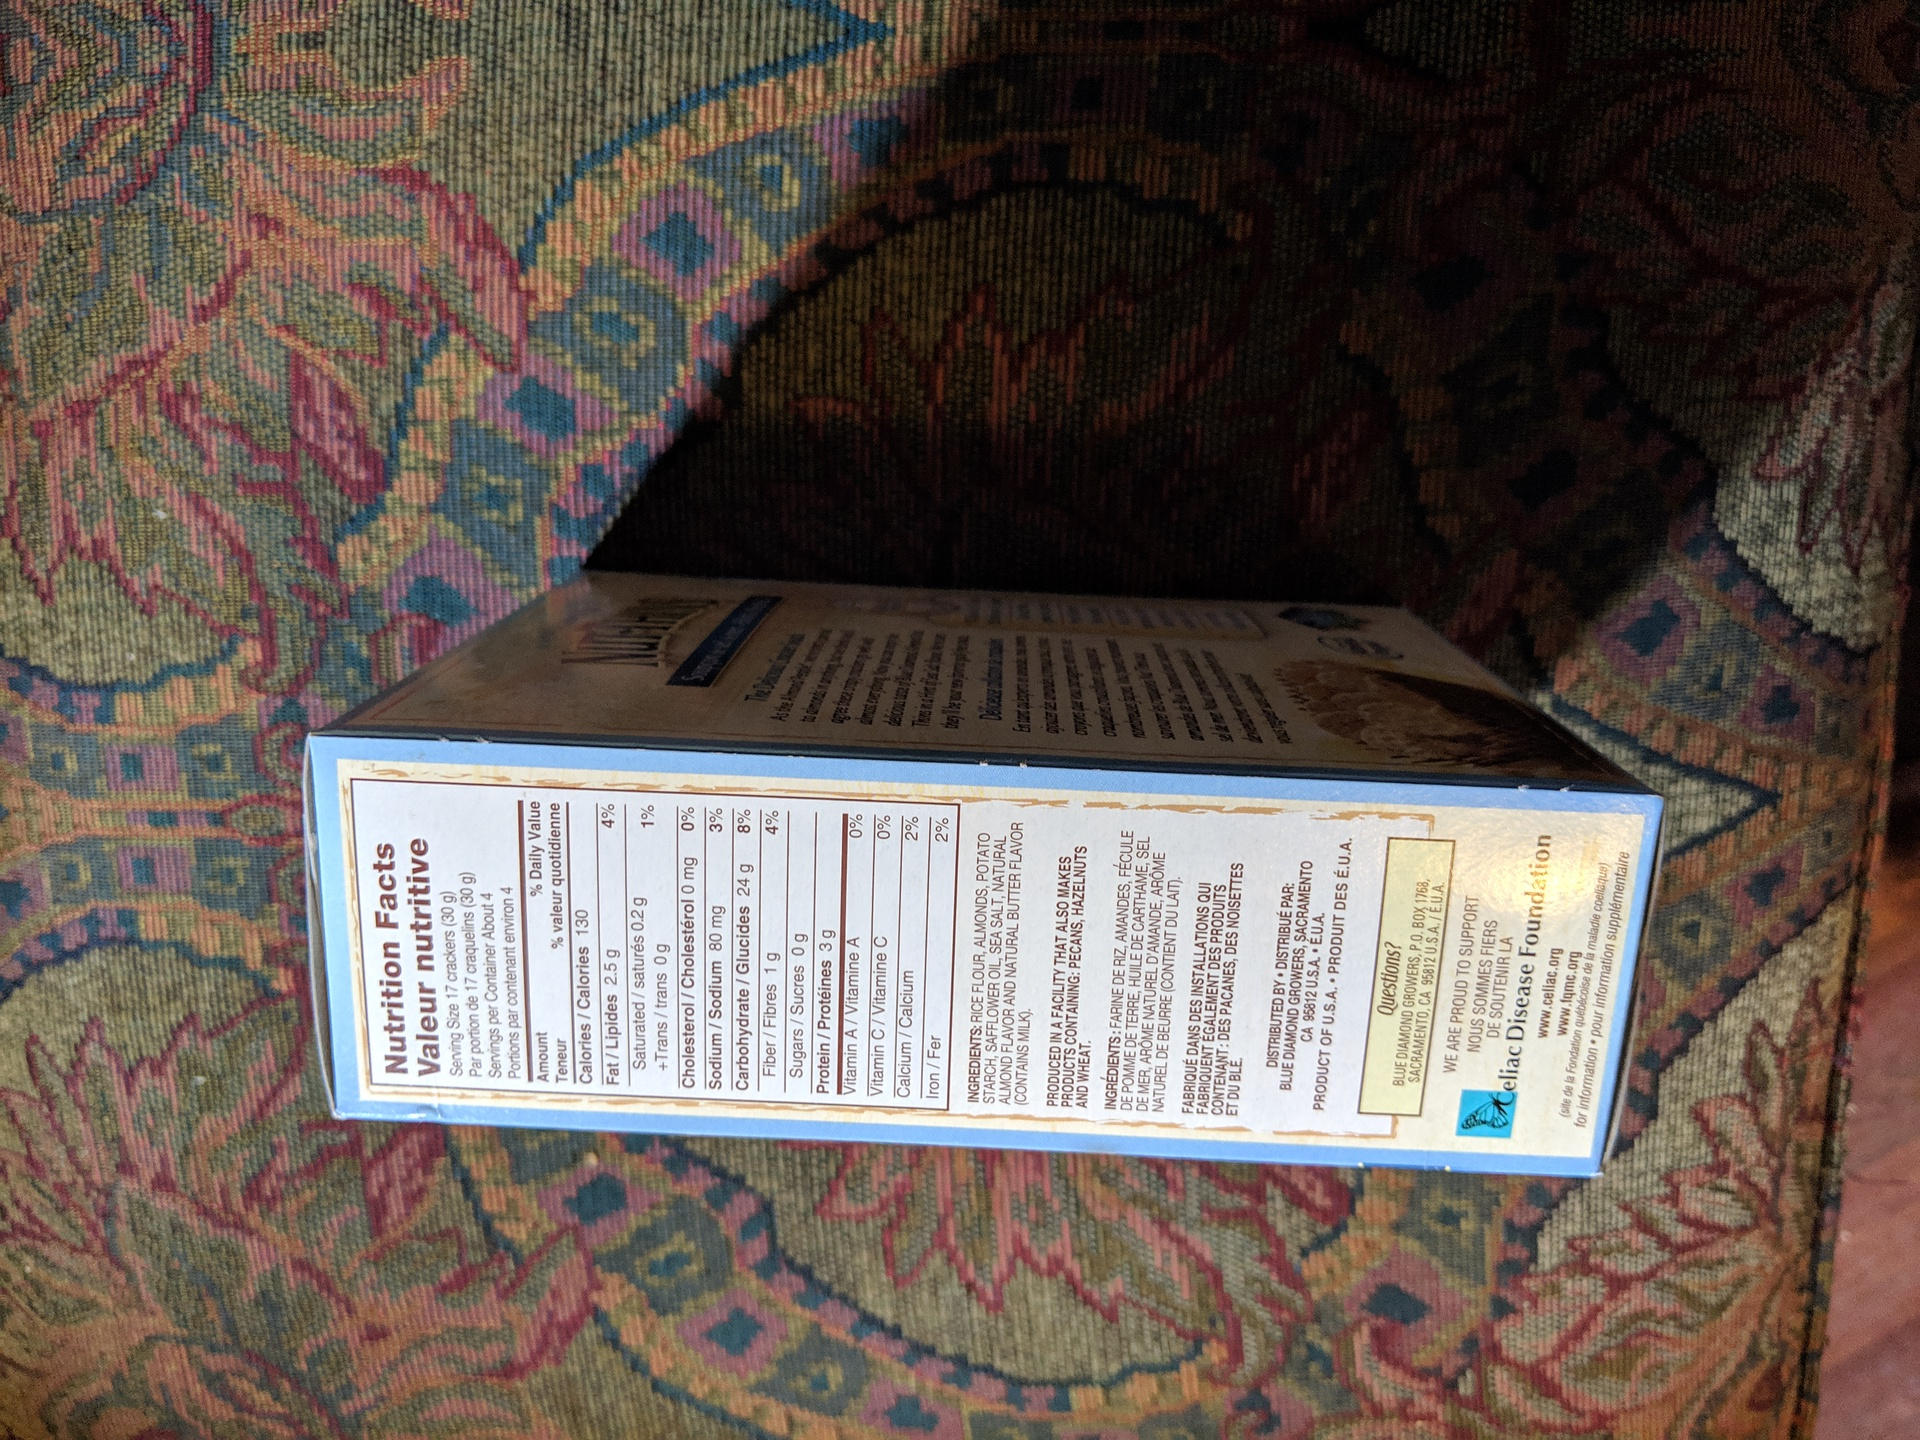blue_diamond_nut_thins_almond_seasalt: (330, 585, 1640, 1166)
